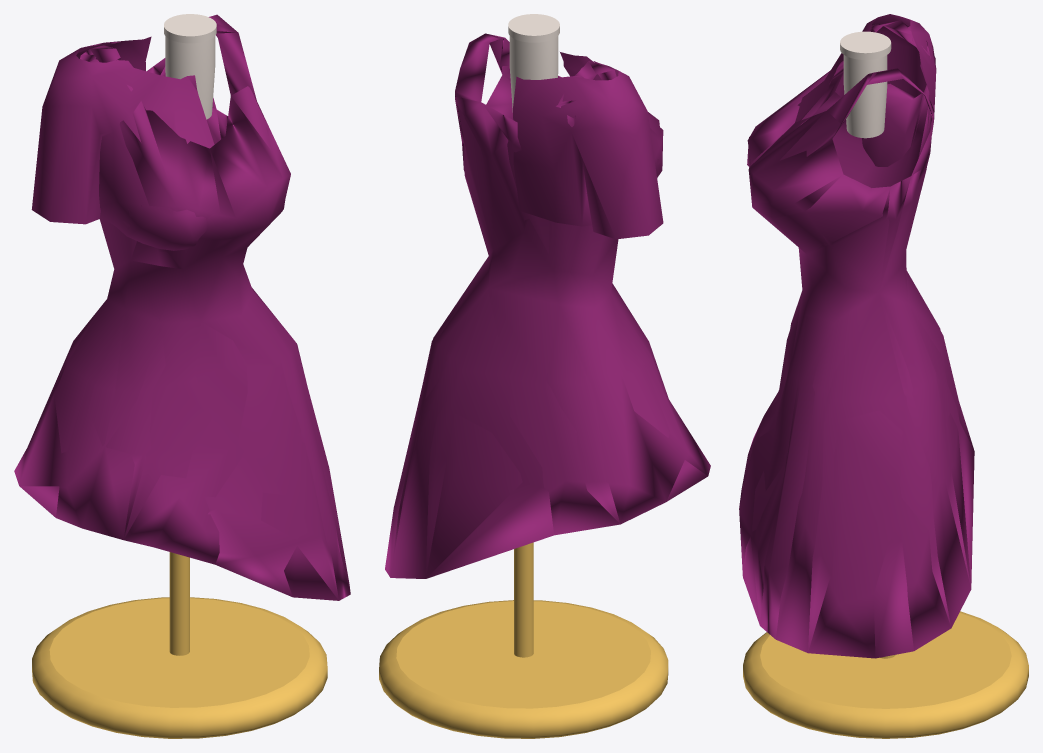
Rendered from rain.dress.plum-asymmetric.lod1.glb.
3 renders of one model, left to right at view 1: azimuth 30°, elevation 25°; view 2: azimuth 150°, elevation 25°; view 3: azimuth 270°, elevation 25°, orthographic. The views are drawn at different scales.
Parts seen in each view (by area): view 1: Tailored.Dress.plum-asymmetric.Fabric, stand_base, Tailored.Dress.plum-asymmetric.Cape, stand_torso, stand_stem, stand_neck_cap; view 2: Tailored.Dress.plum-asymmetric.Fabric, stand_base, Tailored.Dress.plum-asymmetric.Cape, stand_stem, stand_torso, stand_neck_cap; view 3: Tailored.Dress.plum-asymmetric.Fabric, stand_base, Tailored.Dress.plum-asymmetric.Cape, stand_torso, stand_neck_cap.
Part boxes in pixels (x1=…): Tailored.Dress.plum-asymmetric.Fabric: x1=14, y1=14, x2=350, y2=600; stand_base: x1=32, y1=597, x2=327, y2=738; Tailored.Dress.plum-asymmetric.Cape: x1=31, y1=36, x2=214, y2=250; stand_torso: x1=165, y1=36, x2=215, y2=119; stand_stem: x1=169, y1=552, x2=189, y2=655; stand_neck_cap: x1=164, y1=14, x2=216, y2=43; Tailored.Dress.plum-asymmetric.Fabric: x1=385, y1=33, x2=710, y2=578; stand_base: x1=379, y1=600, x2=668, y2=738; Tailored.Dress.plum-asymmetric.Cape: x1=513, y1=52, x2=663, y2=239; stand_stem: x1=514, y1=542, x2=533, y2=657; stand_torso: x1=509, y1=36, x2=558, y2=112; stand_neck_cap: x1=508, y1=14, x2=559, y2=42; Tailored.Dress.plum-asymmetric.Fabric: x1=739, y1=20, x2=974, y2=658; stand_base: x1=743, y1=611, x2=1028, y2=738; Tailored.Dress.plum-asymmetric.Cape: x1=747, y1=14, x2=936, y2=167; stand_torso: x1=843, y1=55, x2=887, y2=138; stand_neck_cap: x1=840, y1=31, x2=891, y2=59.
Bounding box in the file's own units: 0.3414 × 0.75 × 0.3068.
